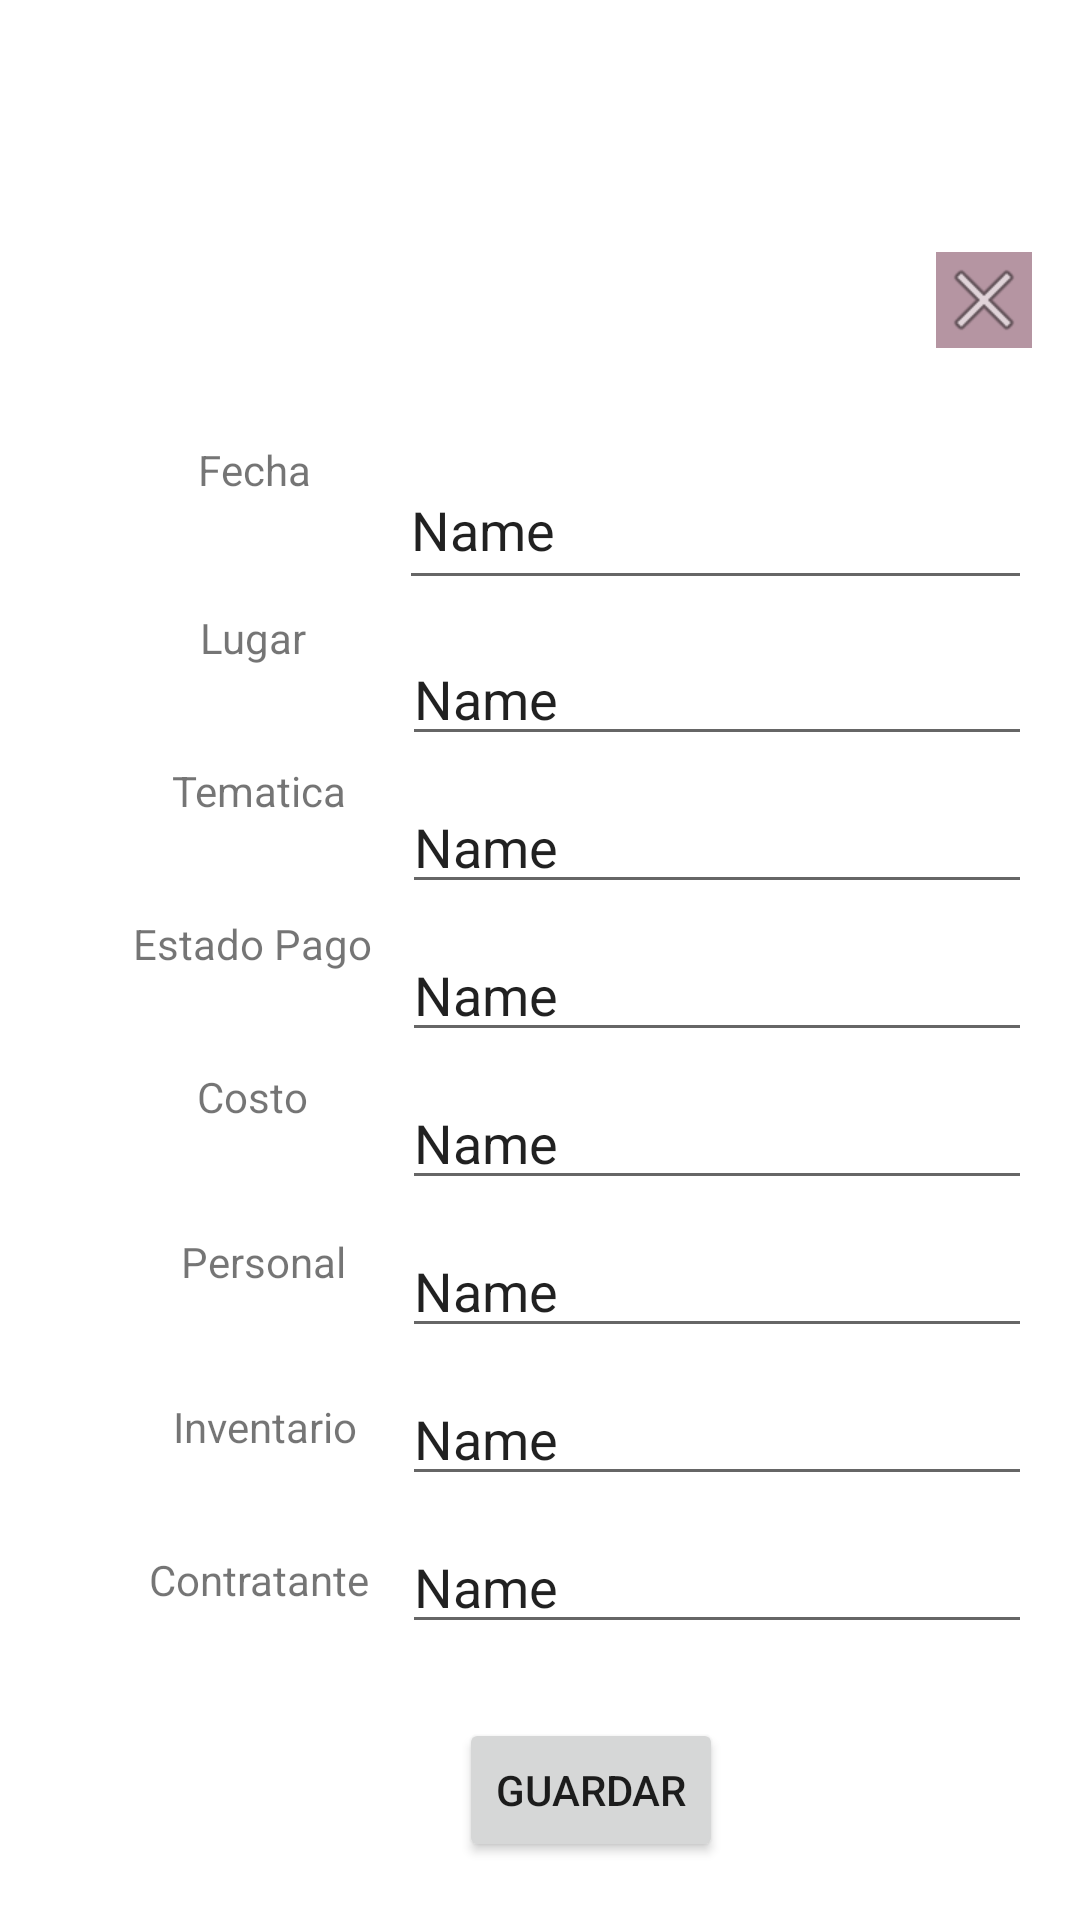

Screen size 1080 x 1920. Icon name, then its box in pixels as (x1, y1, x2, y2):
close clear cancel: (936, 252, 1032, 348)
